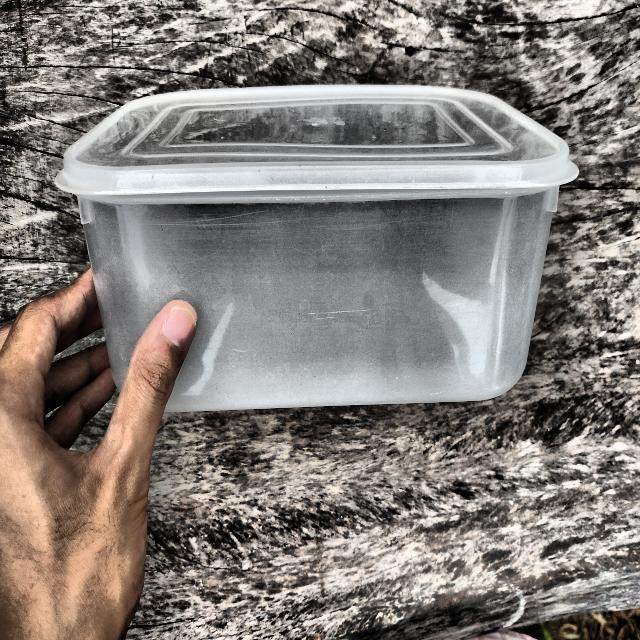plastic container: (66, 49, 552, 428)
